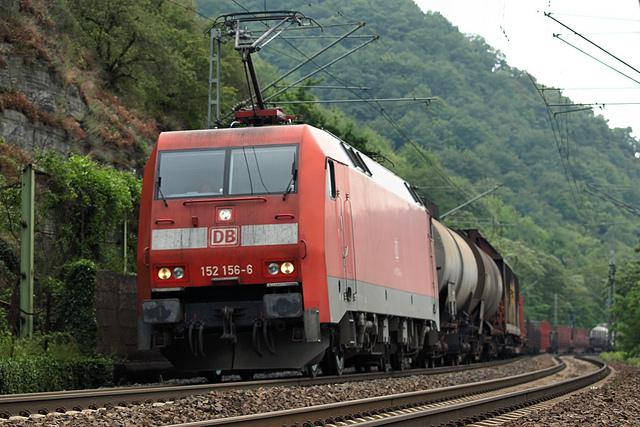Train: (139, 9, 524, 382)
